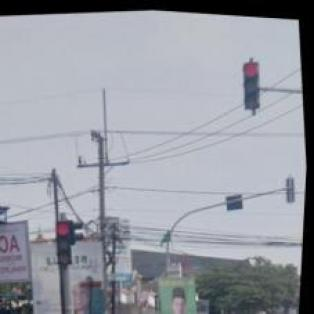Semoforo Rojo: (241, 55, 263, 105), (56, 219, 78, 264)
